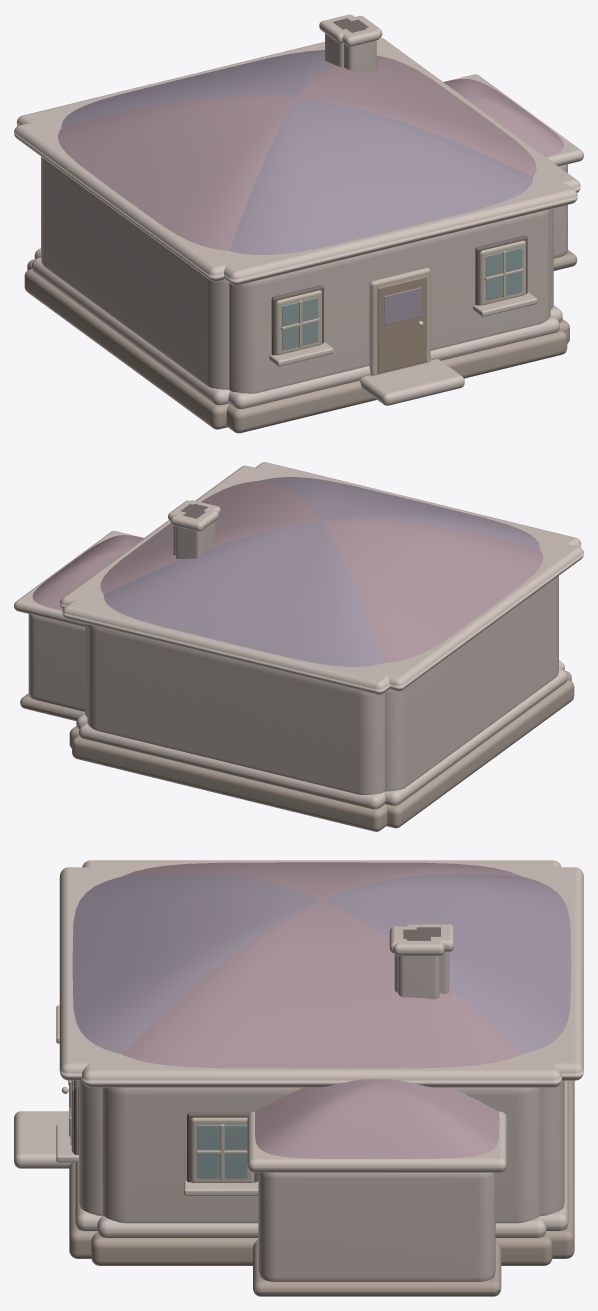
Rendered from small-island-props-v40.glb.
The picture shows the model from 3 angles, top to bottom: view 1: azimuth 30°, elevation 25°; view 2: azimuth 150°, elevation 25°; view 3: azimuth 270°, elevation 25°; orthographic projection. The views are drawn at different scales.
Visible parts, largest first — view 1: cottage-taupe, cottage-pink, cottage-annex; view 2: cottage-taupe, cottage-pink, cottage-annex; view 3: cottage-pink, cottage-taupe, cottage-annex.
Boxes of the visible parts, x1,y1,x2,y2 form: cottage-taupe: [16, 14, 577, 433]; cottage-pink: [14, 15, 580, 429]; cottage-annex: [33, 19, 583, 392]; cottage-taupe: [62, 462, 581, 831]; cottage-pink: [60, 465, 583, 828]; cottage-annex: [14, 470, 541, 721]; cottage-pink: [43, 860, 561, 1265]; cottage-taupe: [14, 867, 583, 1258]; cottage-annex: [51, 864, 543, 1296].
Bounding box in the file's own units: 11.1 × 5.74 × 10.33.
